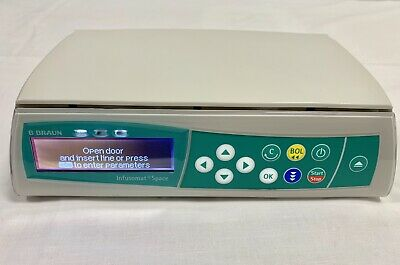BBraun Infusomat Space: (7, 27, 397, 205)
